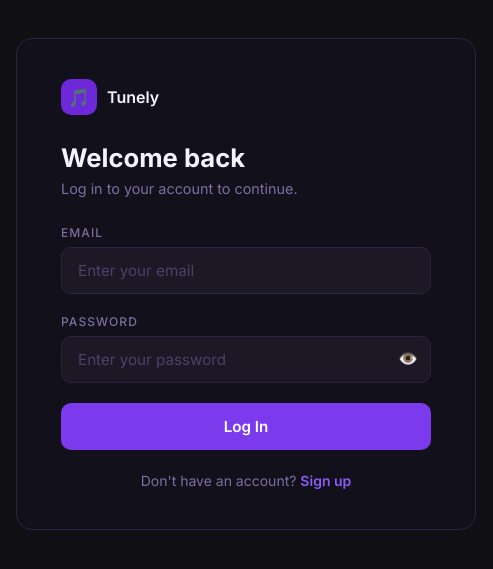
Test: Login › shows validation error for empty email
Click the button "Log In" at (246, 426), box [61,403,431,450]
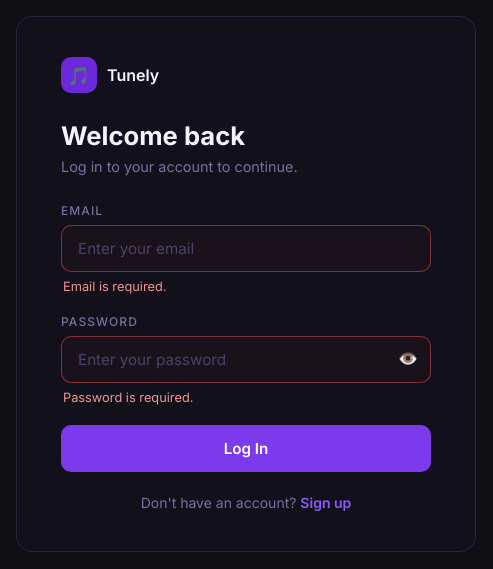
Expected: the text "Email is required." is shown, [63,279,166,294]
